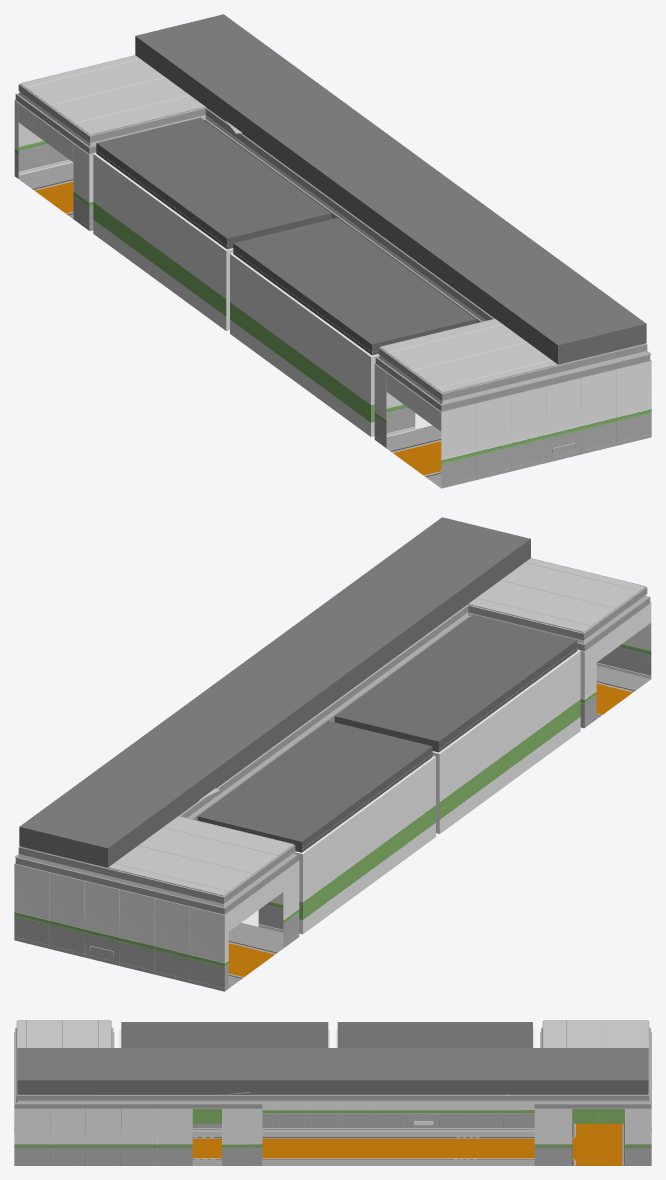
3 views of the same model, one above another, from view 1: azimuth 30°, elevation 25°; view 2: azimuth 150°, elevation 25°; view 3: azimuth 270°, elevation 25° (orthographic). The views are drawn at different scales.
Parts seen in each view (by area): view 1: SM_H_Building_FutureTech_HBlack_01_InterWall_02; view 2: SM_H_Building_FutureTech_HBlack_01_InterWall_02; view 3: SM_H_Building_FutureTech_HBlack_01_InterWall_02.
Boxes of the visible parts, <box> form: SM_H_Building_FutureTech_HBlack_01_InterWall_02: <box>14,14,651,488</box>; SM_H_Building_FutureTech_HBlack_01_InterWall_02: <box>14,517,651,991</box>; SM_H_Building_FutureTech_HBlack_01_InterWall_02: <box>14,1020,651,1165</box>.
Size of the model in its own units: 1257 by 360 by 184.
